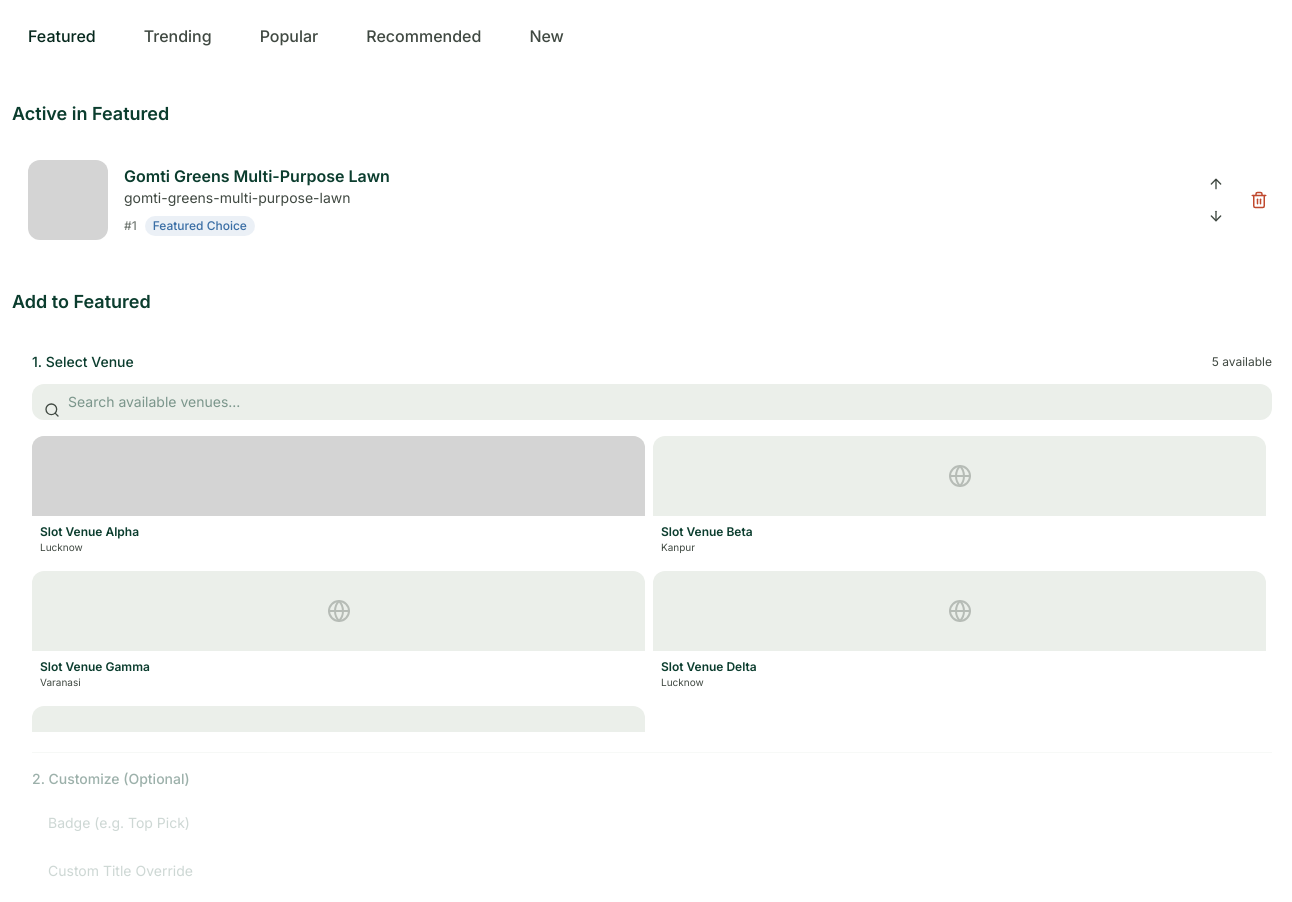
Test case: HomepageTab Component › allows selecting a venue from the scrollable list and filtering via search
The width and height of the screenshot is (1292, 902).
Type "Beta" into the field with placeholder "Search available venues...". click: (652, 402)
box: x1=32 y1=384 x2=1272 y2=420
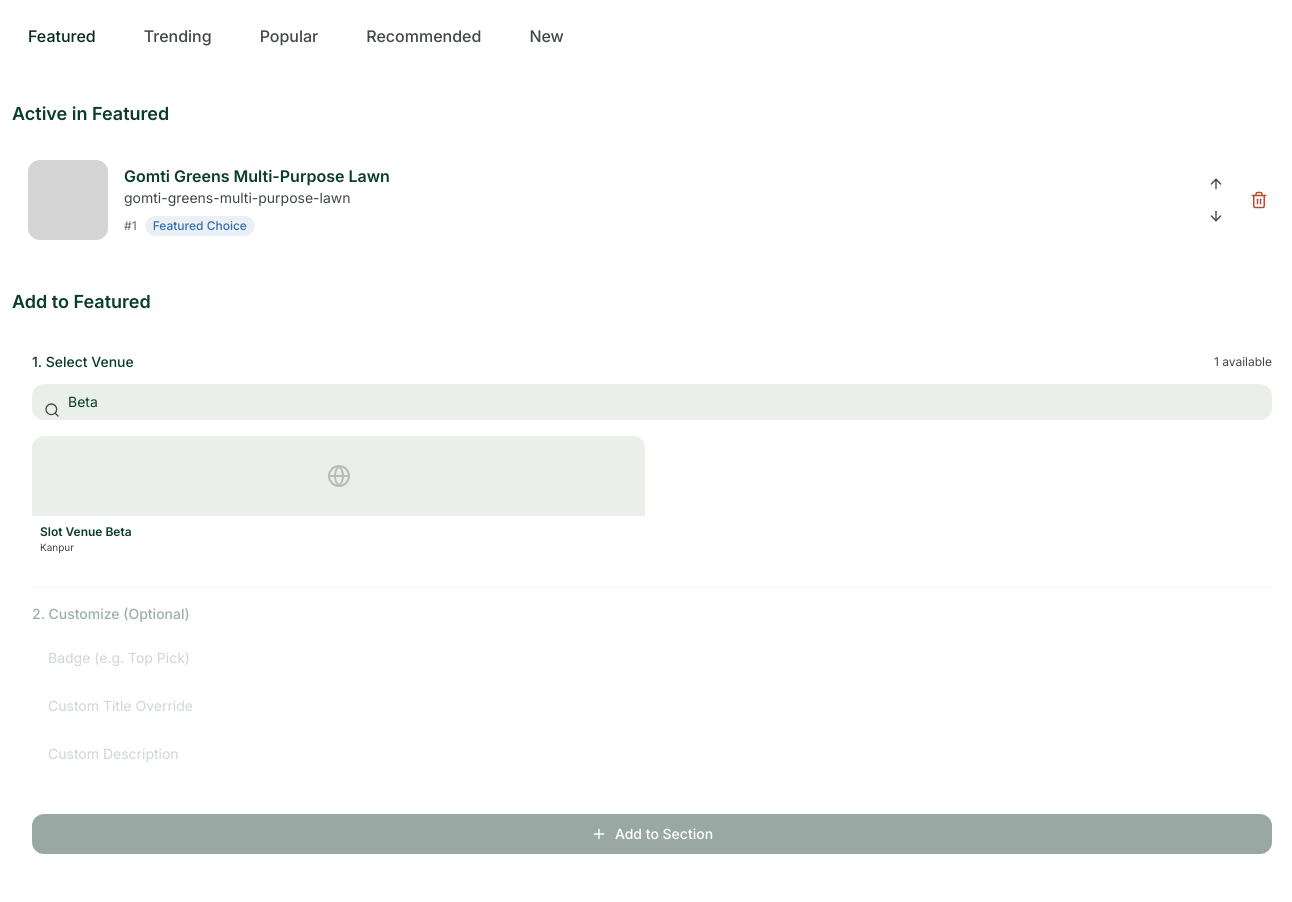
Expected: the button "Slot Venue Alpha" is gone
Note: Select Beta
Click the text "Slot Venue Beta". click: click(86, 532)
box: x1=40 y1=524 x2=132 y2=540
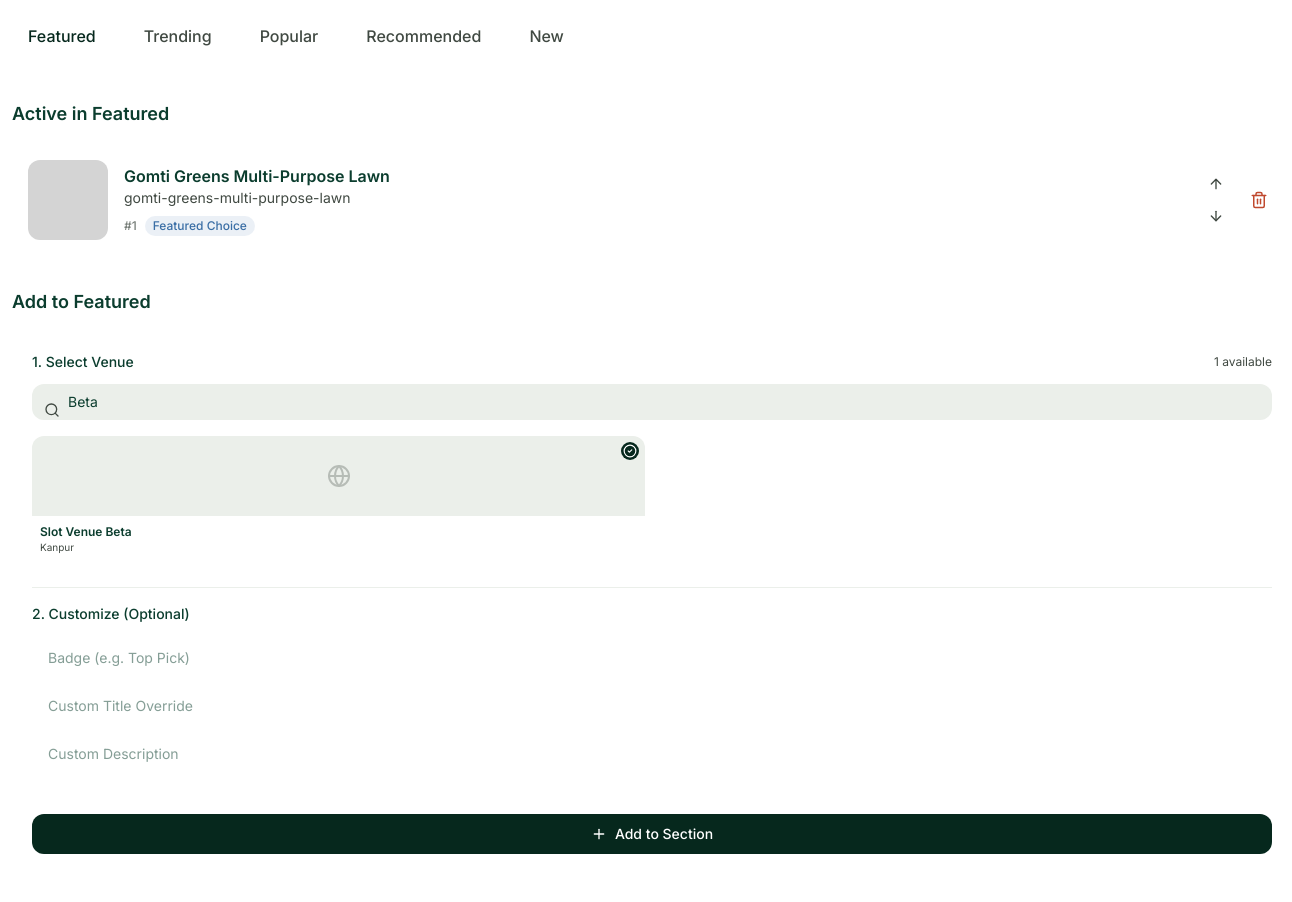
Expected: the button "Add to Section" is enabled, x1=32 y1=814 x2=1272 y2=854
